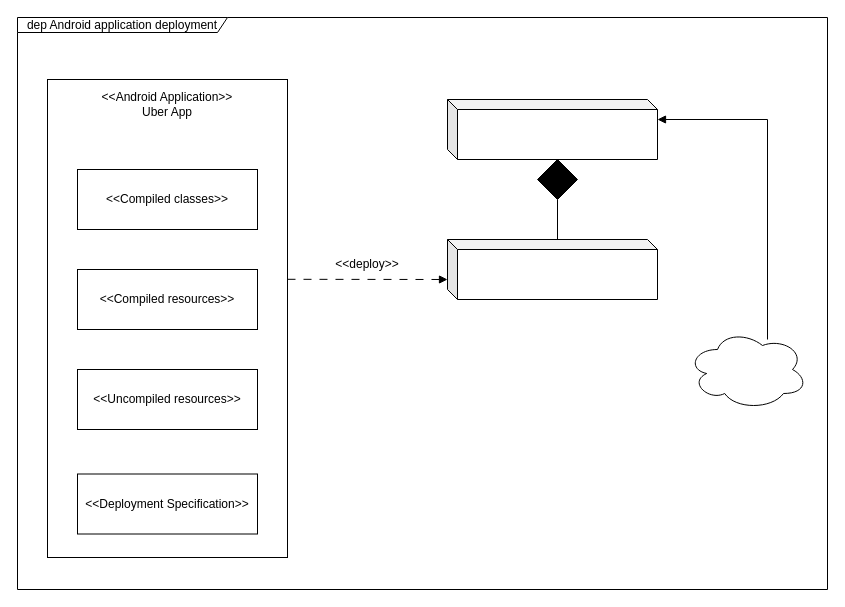
Some shapes in this 845 by 607 pixel diagram are drawn without their labels. Here are the shapes that lost their labels. From the top down, the centre of each, then its label:
the point at 552,129: <<device>> Smarthphone
the point at 552,269: <<Execution Enviroment>> Android
the point at 747,369: API
